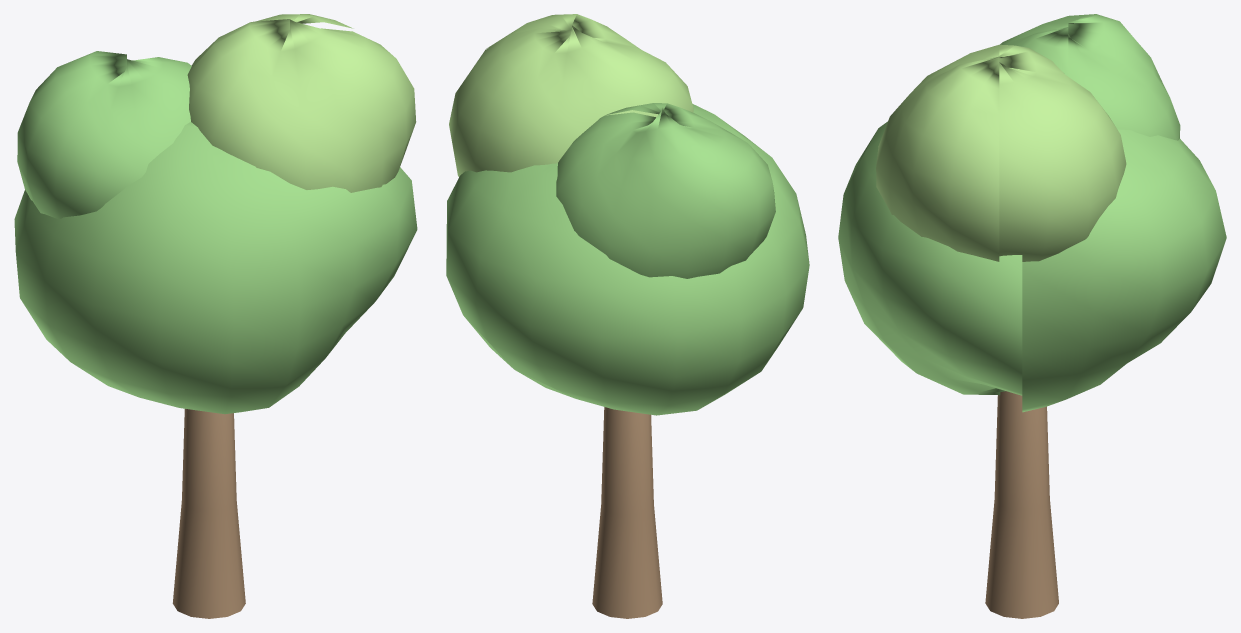
Rendered from tree.glb.
3 renders of one model, left to right at view 1: azimuth 30°, elevation 25°; view 2: azimuth 150°, elevation 25°; view 3: azimuth 270°, elevation 25°, orthographic. The views are drawn at different scales.
Parts seen in each view (by area): view 1: Skin; view 2: Skin; view 3: Skin.
Boxes of the visible parts, bbox=[...] form: Skin: bbox=[14, 14, 417, 618]; Skin: bbox=[446, 14, 809, 618]; Skin: bbox=[838, 14, 1226, 618].
Bounding box in the file's own units: 1.78 × 2.78 × 1.69.
